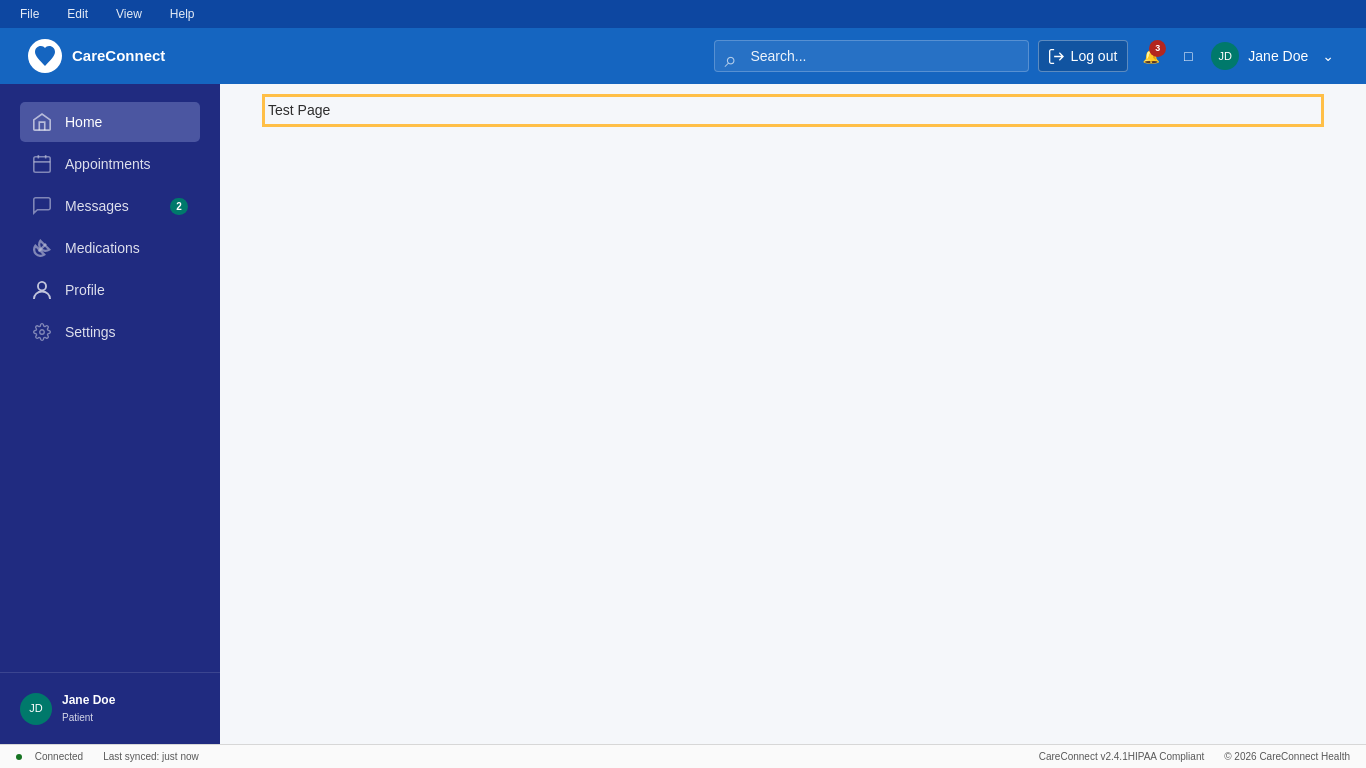
Test: Shell › opening a notification marks it read and navigates
The image size is (1366, 768).
Click the button named "Notifications, 3 unread" at coordinates (1151, 56), box [1137,42,1165,70]
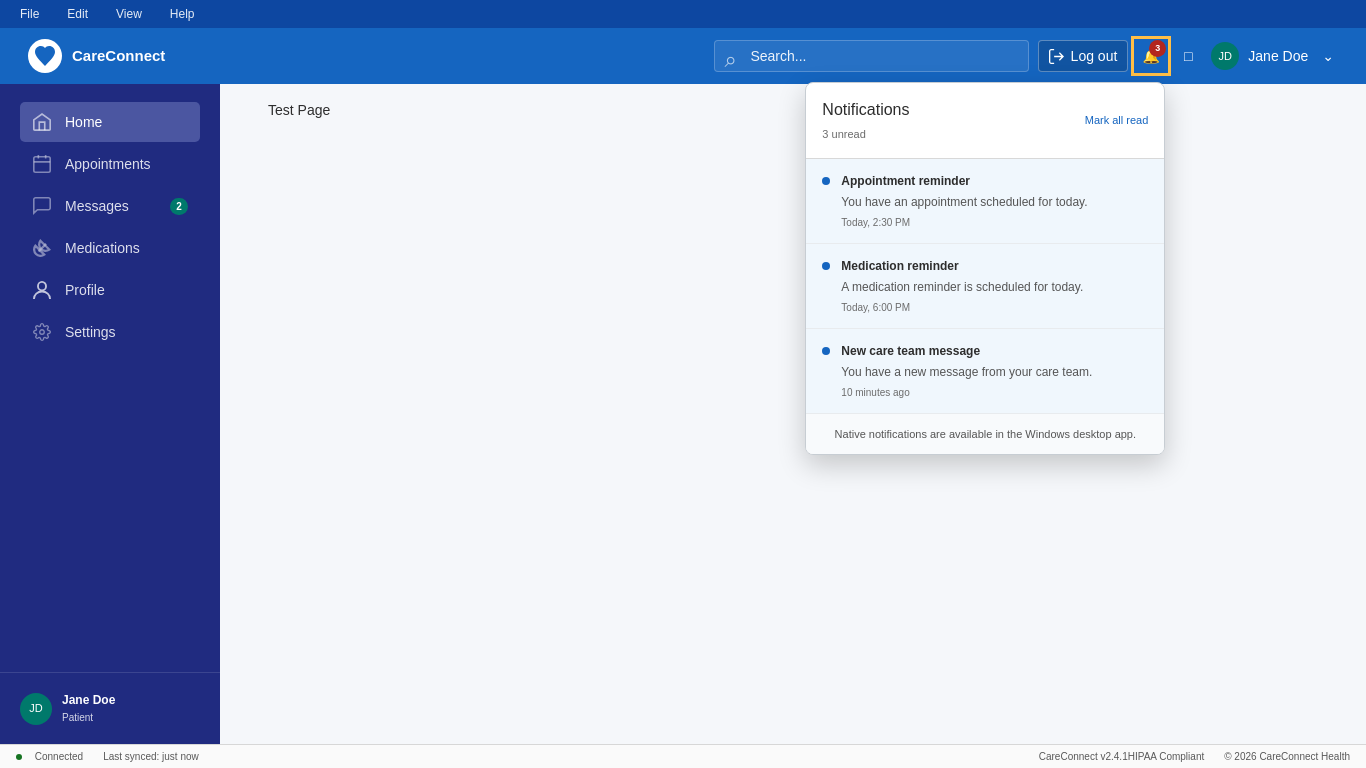
Click the button "Appointment reminder" at coordinates (985, 201), box [806,158,1164,244]
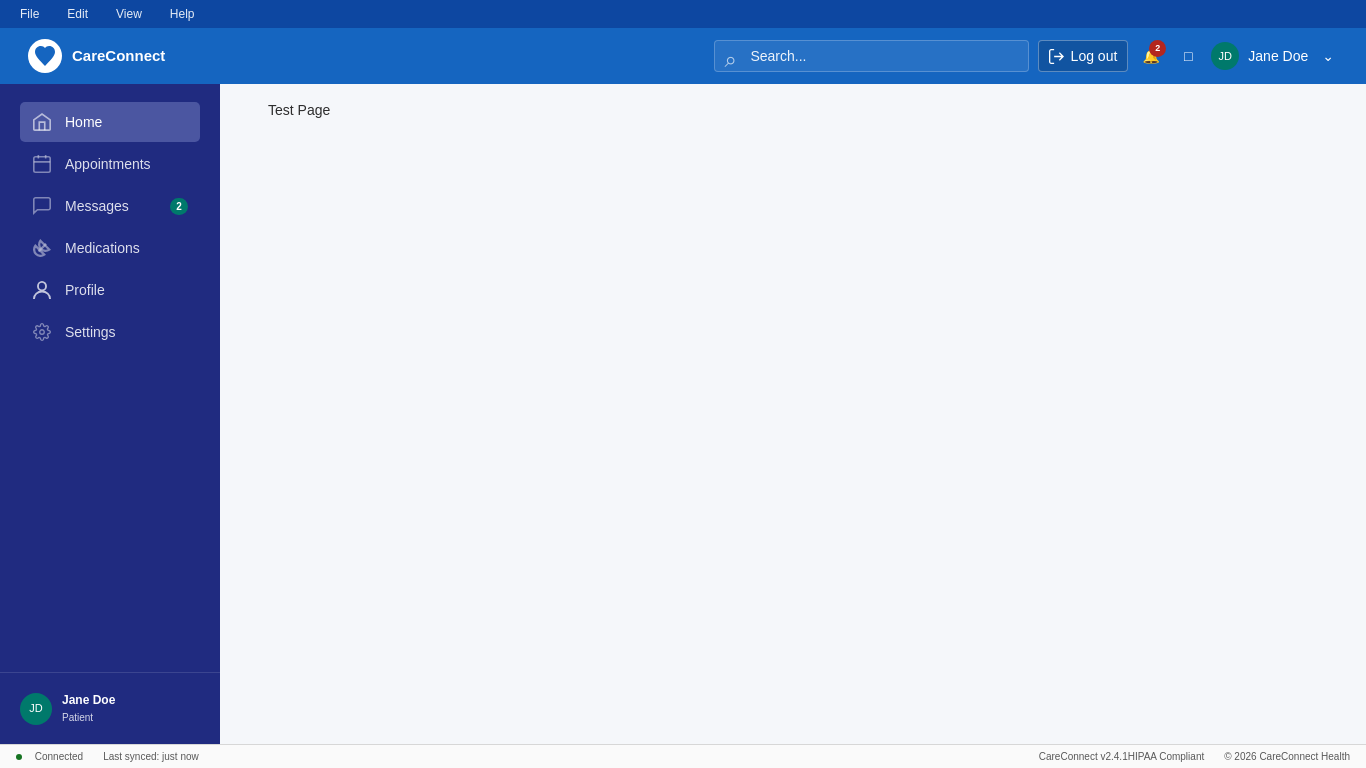
expect the heading "Notifications" is gone: met
